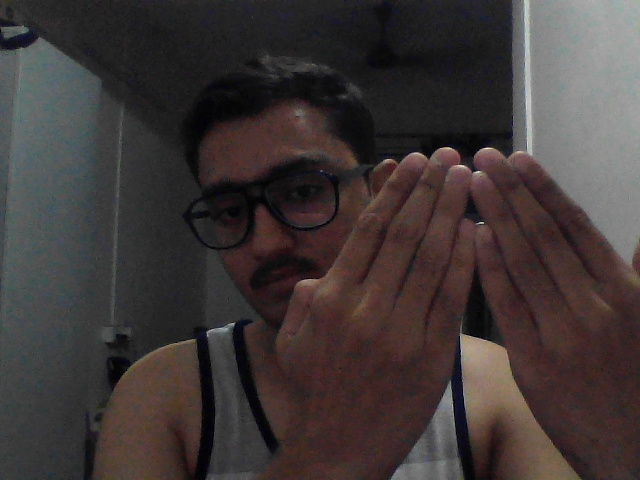Thank You: (247, 125, 640, 480)
